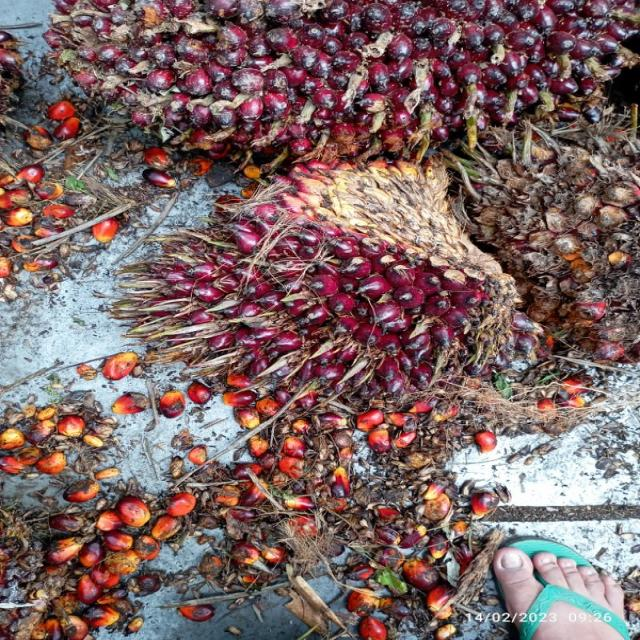fraksi 1: (149, 115, 540, 458)
